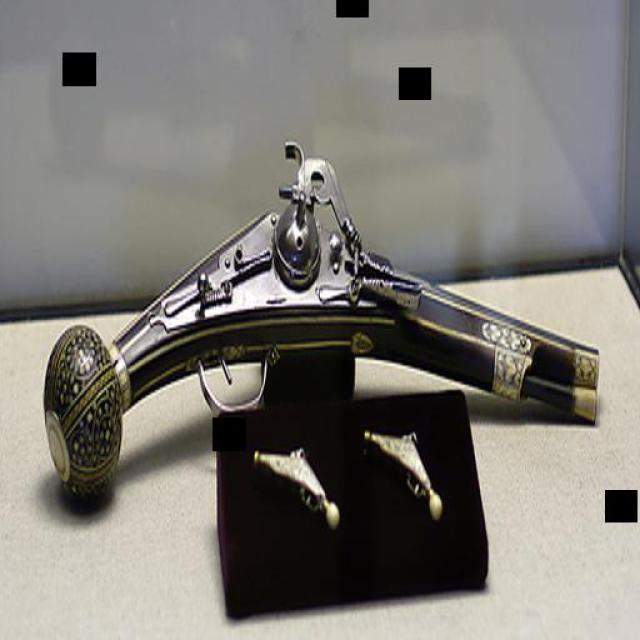gun: (46, 130, 600, 515)
